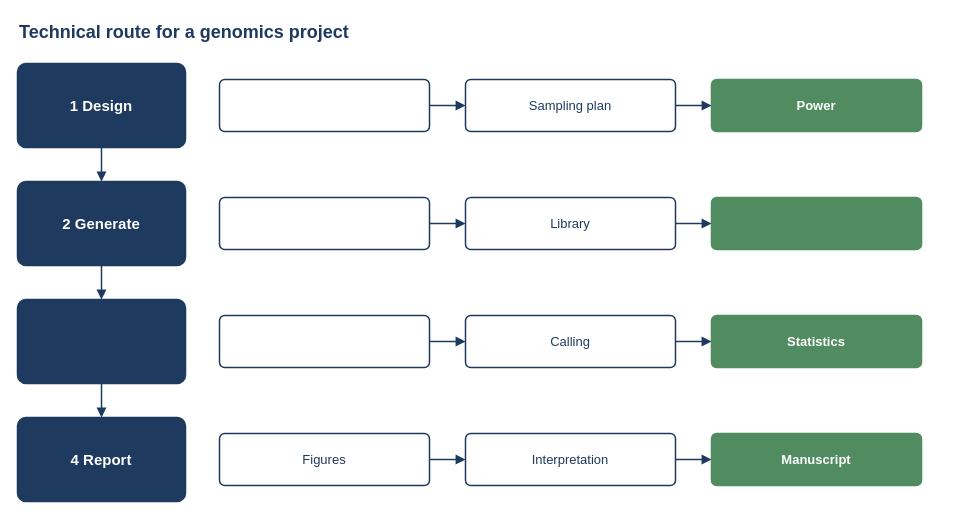
The diagram is 979 pixels wide and 519 high, and some of its shapes have lost their labels. Each missing label, with the centre of its shape:
3 Analyze: the point at 101,341
Extraction: the point at 324,223
QC: the point at 324,341
Question: the point at 324,105
Sequencing: the point at 816,223
